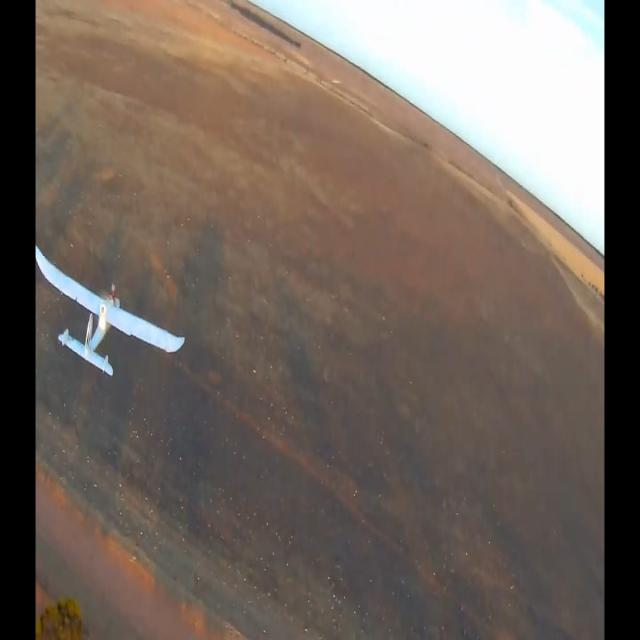iha: (0, 246, 124, 380)
